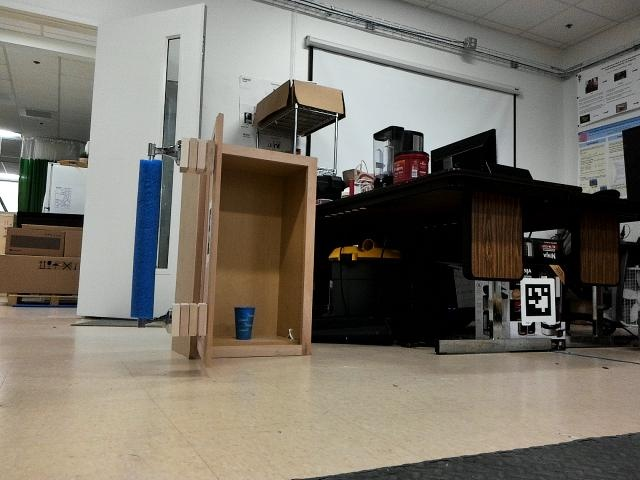noodle_handle: (128, 152, 159, 324)
water_cup: (228, 301, 257, 343)
